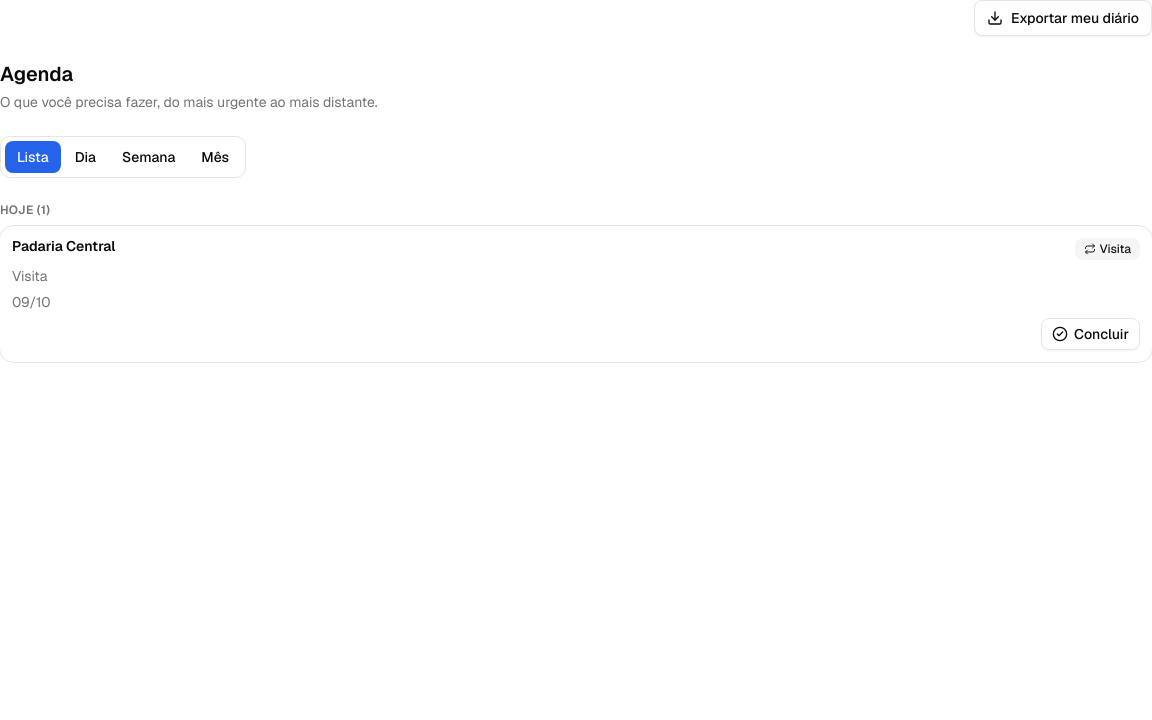
Test: AgendaList › abre: clicar em Concluir numa linha abre a janela com o título correspondente ao cliente e à origem
Expected: the text "Padaria Central" is shown, [12, 237, 116, 255]
Click the button "Concluir": (1091, 334) [1041, 318, 1140, 350]
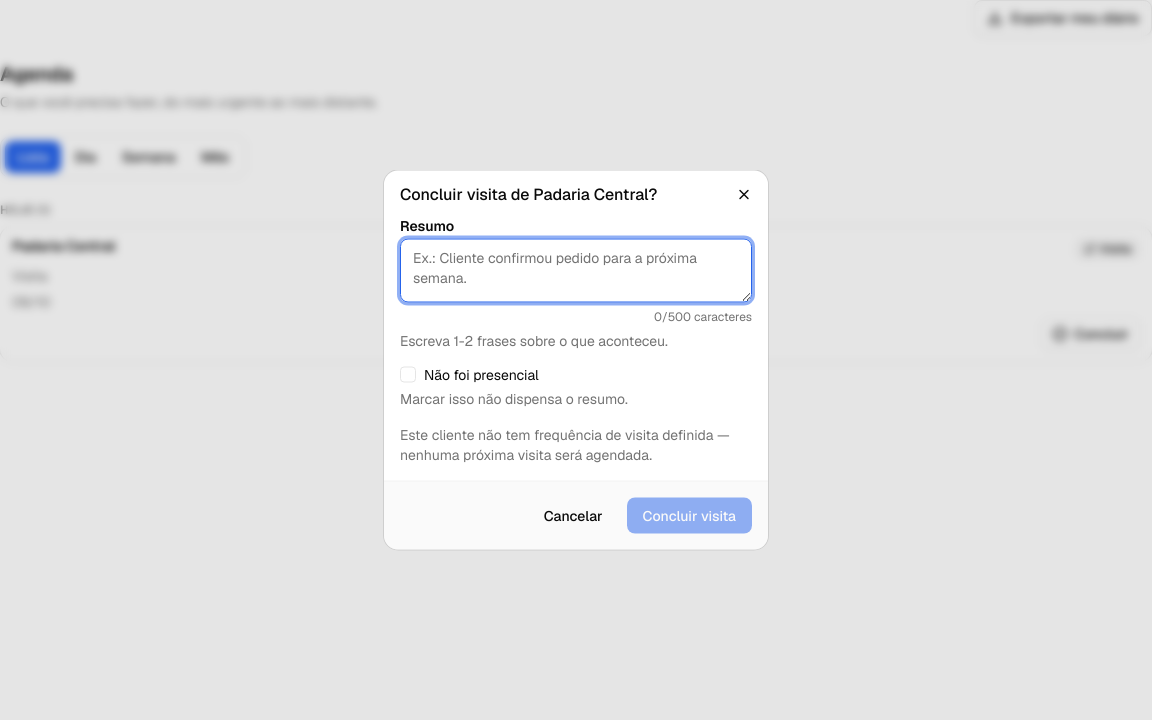
Expected: the heading "Concluir visita de Padaria Central?" is shown, [400, 184, 657, 204]
